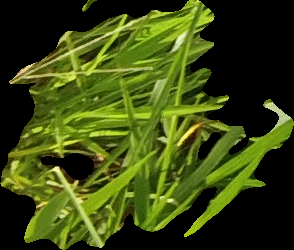grass: (1, 1, 293, 249)
